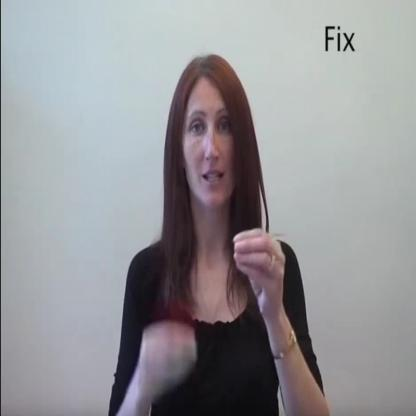Fix: (122, 227, 292, 397)
